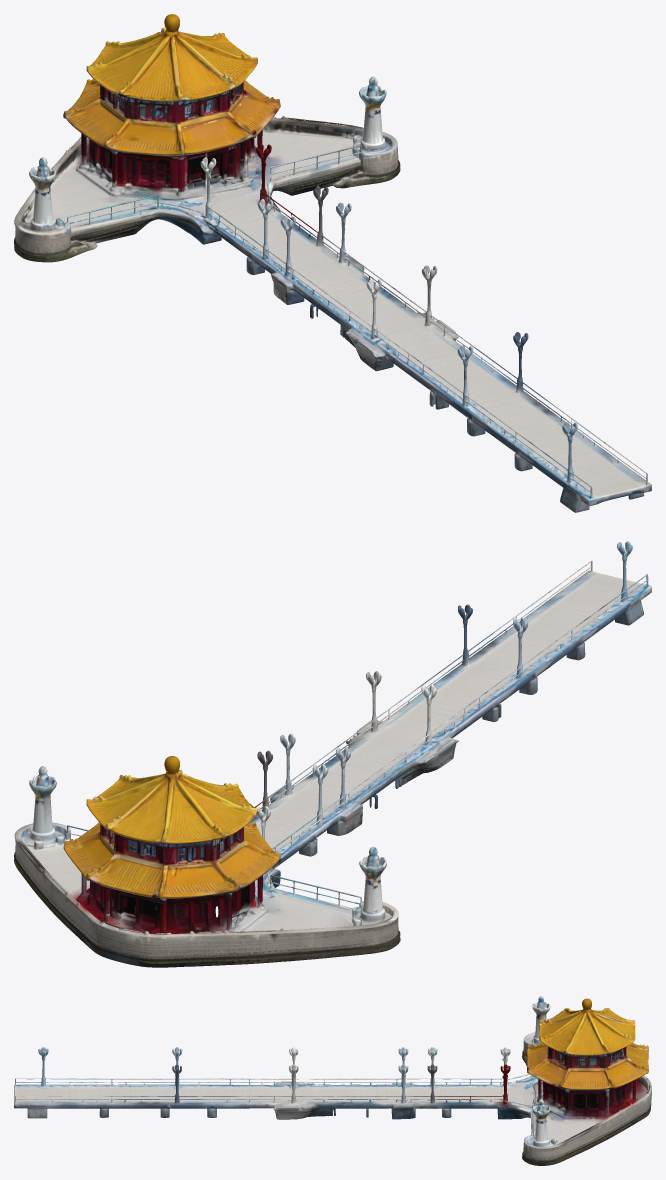
The picture shows the model from 3 angles, top to bottom: view 1: azimuth 30°, elevation 25°; view 2: azimuth 150°, elevation 25°; view 3: azimuth 270°, elevation 25°; orthographic projection. The views are drawn at different scales.
Visible parts, largest first — view 1: node_0; view 2: node_0; view 3: node_0.
Boxes of the visible parts, bbox=[...] form: node_0: bbox=[14, 14, 651, 512]; node_0: bbox=[14, 541, 651, 967]; node_0: bbox=[14, 996, 651, 1165].
Size of the model in its own units: 0.516 by 0.2224 by 1.18.
1 material, 1 textured.
